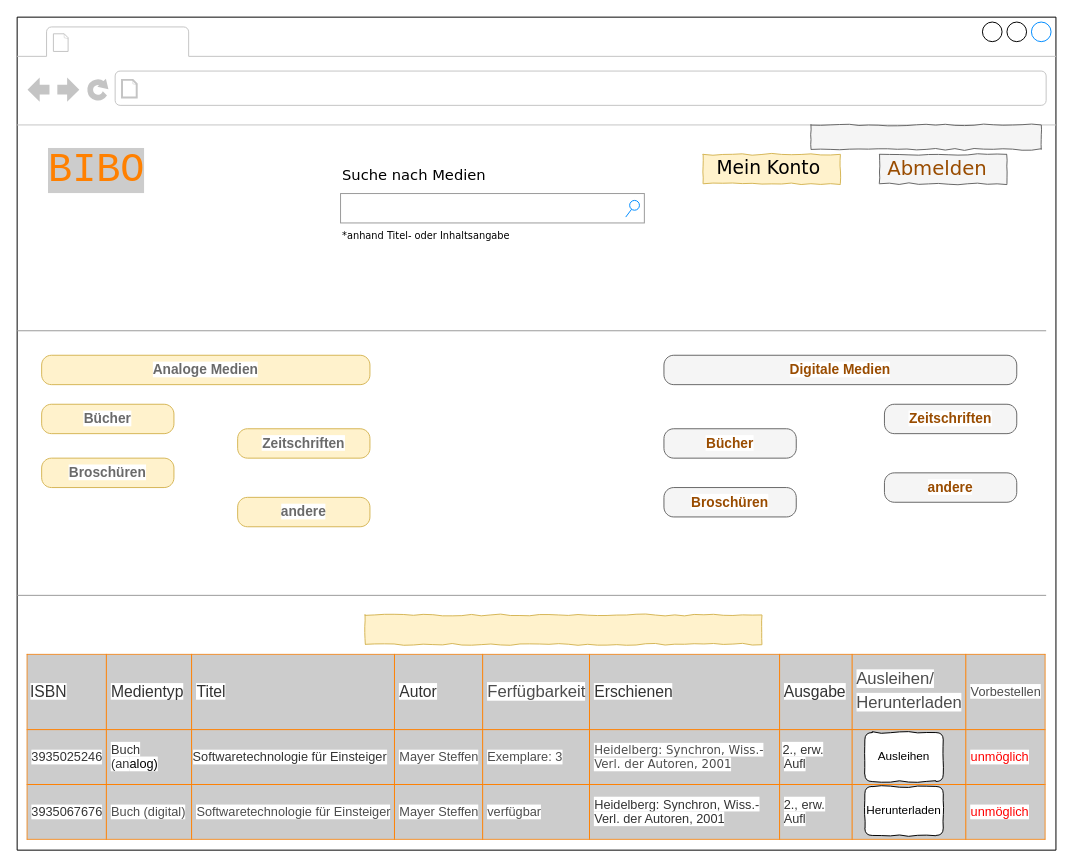
This 1073x867 diagram has some shape labels left out. The shapes that lost their labels are listed below. From the top down, each one's centre as x and y in pixels, then its label:
(x=129, y=41): Page 1
(x=267, y=88): https://www.bibo.de
(x=925, y=136): Hаllo, Sаrа :)
(x=492, y=208): Softwaretechnologie für Einsteiger
(x=563, y=629): Suchresultate für Softwaretechnologie für Einsteiger
